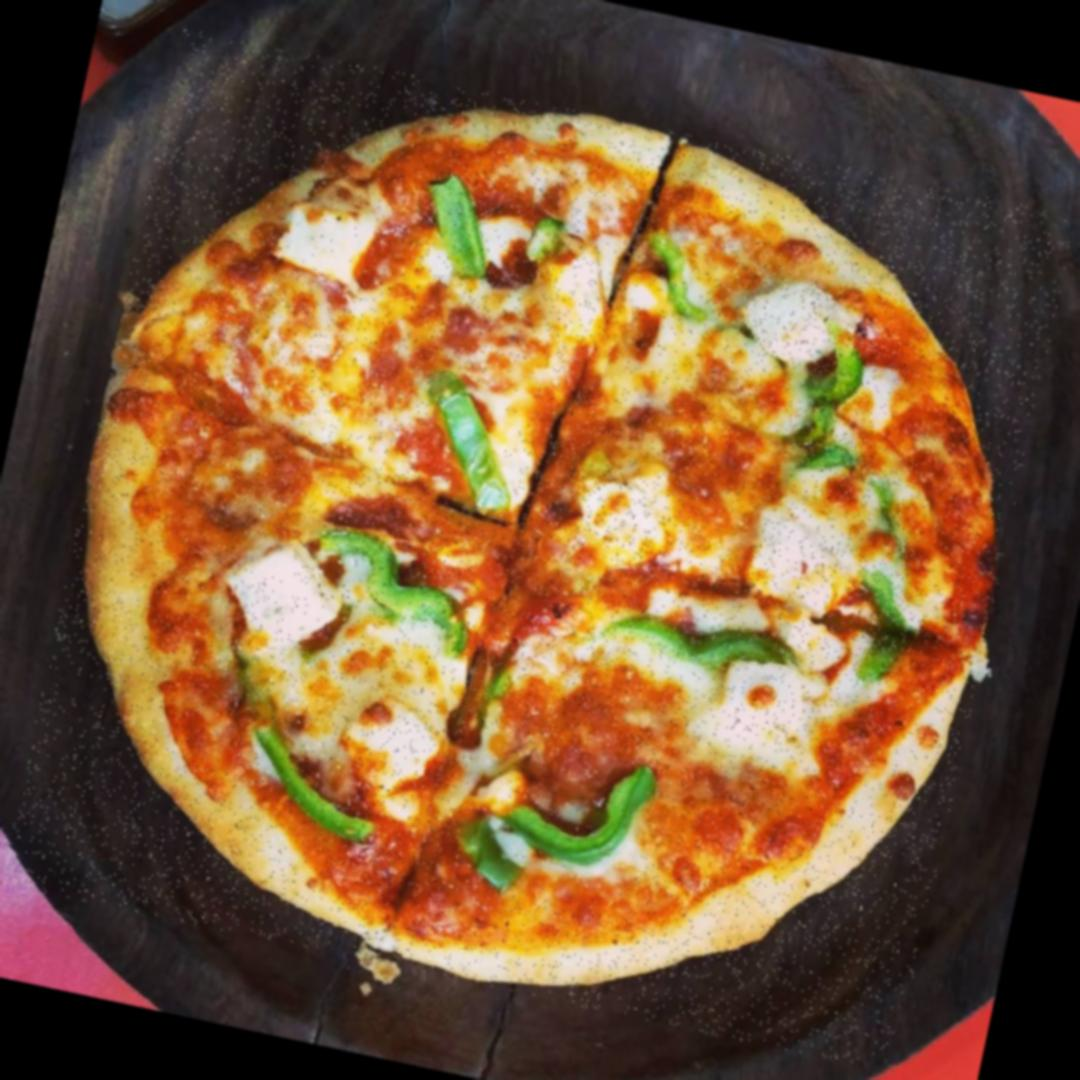Cheese: (226, 536, 343, 654), (748, 517, 860, 621), (278, 194, 376, 292), (580, 481, 675, 570), (747, 275, 842, 364), (356, 697, 438, 785), (725, 669, 818, 746)
Peppers: (447, 730, 659, 922), (297, 521, 495, 654), (237, 722, 394, 846), (414, 376, 534, 516), (607, 608, 805, 691), (798, 320, 880, 478), (836, 567, 928, 693), (411, 171, 504, 281), (638, 227, 712, 319), (857, 475, 922, 553)
Pizza: (2, 27, 1077, 1074)
